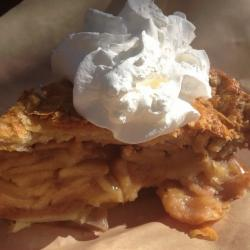apple_pie: (8, 66, 248, 234)
chantilly: (51, 2, 224, 146)
